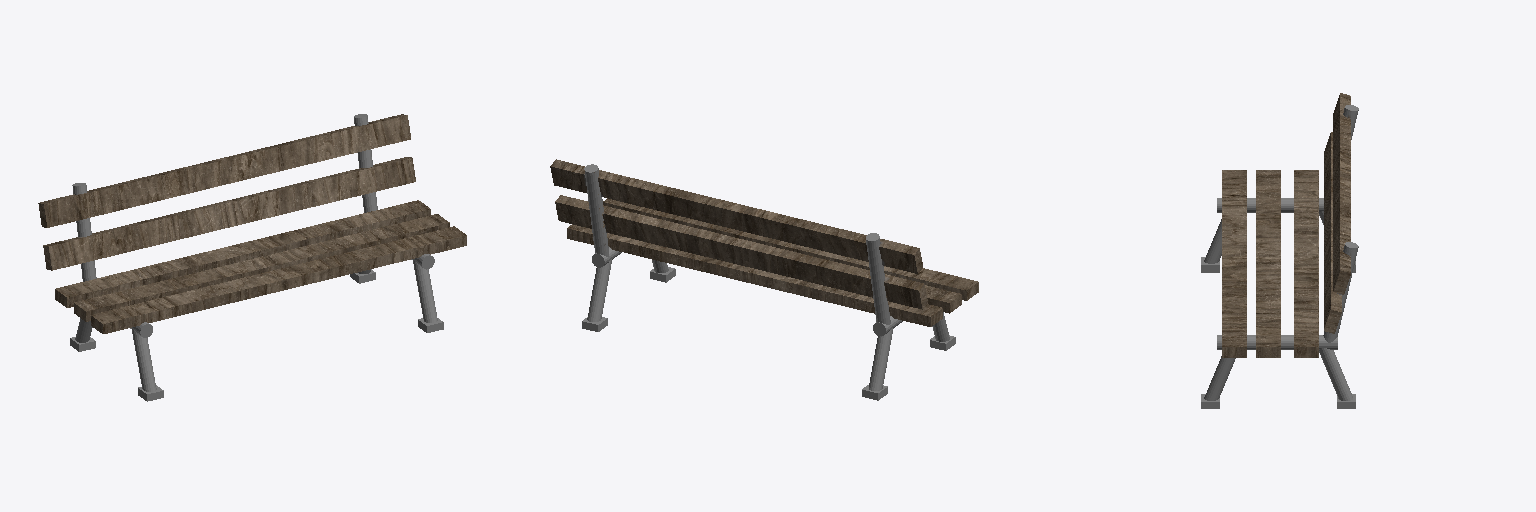
3 views of the same model, side by side, from view 1: azimuth 30°, elevation 25°; view 2: azimuth 150°, elevation 25°; view 3: azimuth 270°, elevation 25° (orthographic).
Parts seen in each view (by area): view 1: pCube19; view 2: pCube19; view 3: pCube19.
Part boxes in pixels (x1,y1,x2,y2): pCube19: (38,114,466,401); pCube19: (550,159,978,400); pCube19: (1201,93,1358,408).
Size of the model in its own units: 0.4873 by 0.2067 by 0.1827.
Materials: 1 (1 with a texture image).